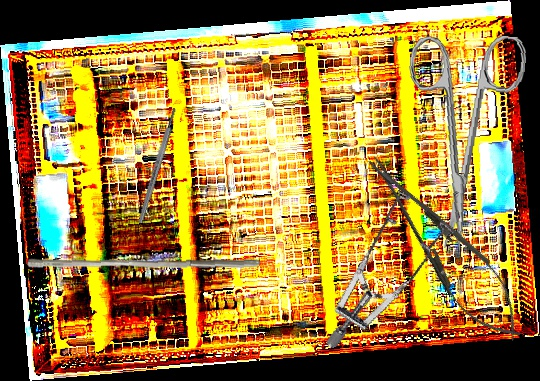Iris Scissors: (390, 26, 529, 255)
Needle Holder: (352, 141, 538, 354)
Pusher: (25, 249, 262, 277)
Scalpel Handle: (136, 107, 179, 224)
Speculum: (282, 176, 478, 350)
